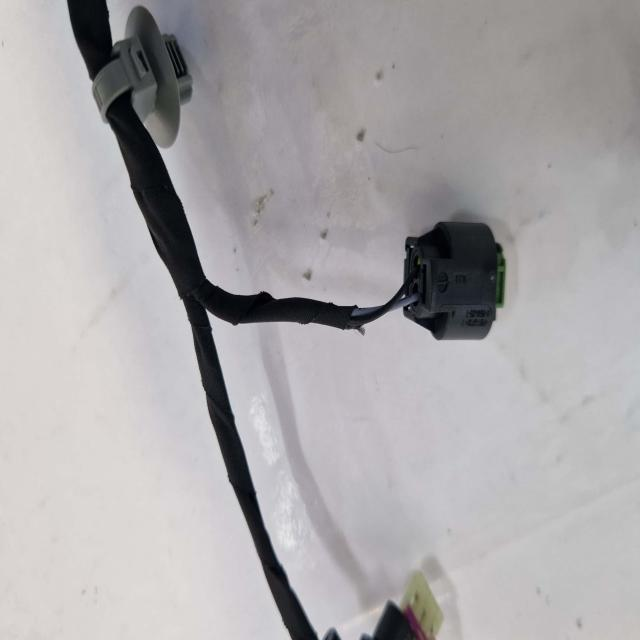Clip: (85, 2, 186, 144)
Connector: (398, 220, 500, 337)
Gape: (343, 258, 417, 342)
MHEV_N11_Cable: (99, 89, 345, 639), (61, 0, 105, 78)
